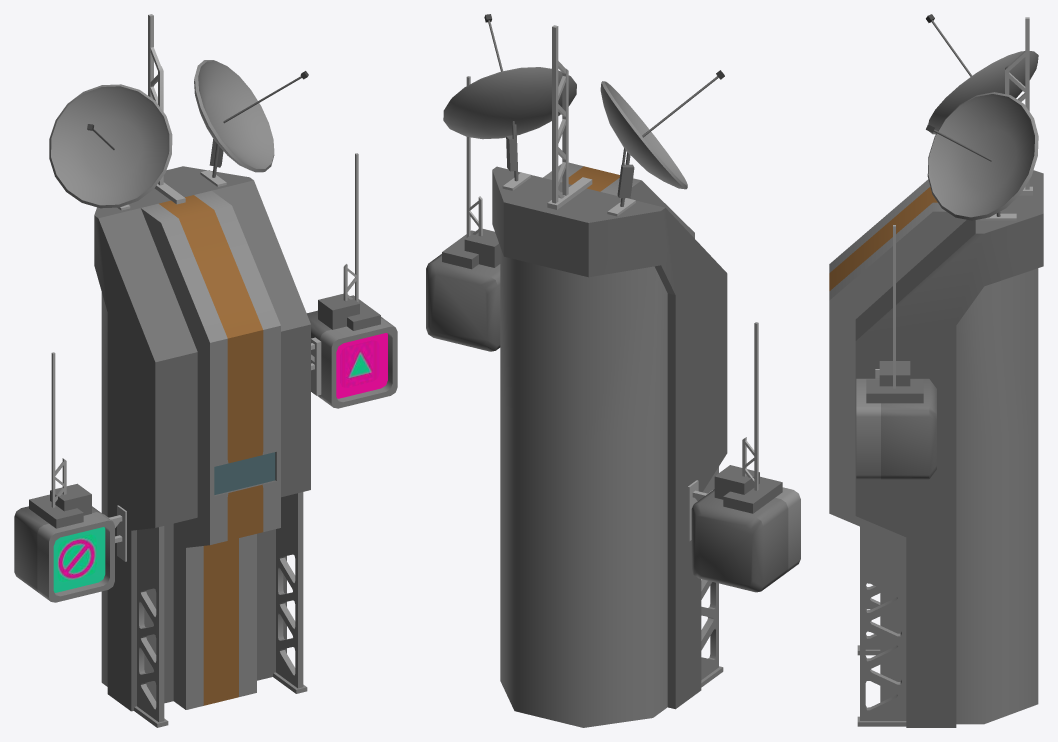
File: Computer_Large.glb
3 renders of one model, left to right at view 1: azimuth 30°, elevation 25°; view 2: azimuth 150°, elevation 25°; view 3: azimuth 270°, elevation 25°, orthographic. The views are drawn at different scales.
Parts seen in each view (by area): view 1: Computer_Large; view 2: Computer_Large; view 3: Computer_Large.
Boxes of the visible parts, x1,y1,x2,y2 form: Computer_Large: (14, 14, 397, 727); Computer_Large: (426, 14, 800, 727); Computer_Large: (829, 14, 1043, 727).
Bounding box in the file's own units: 1.29 × 2.38 × 0.6898.
7 materials, 1 textured.
